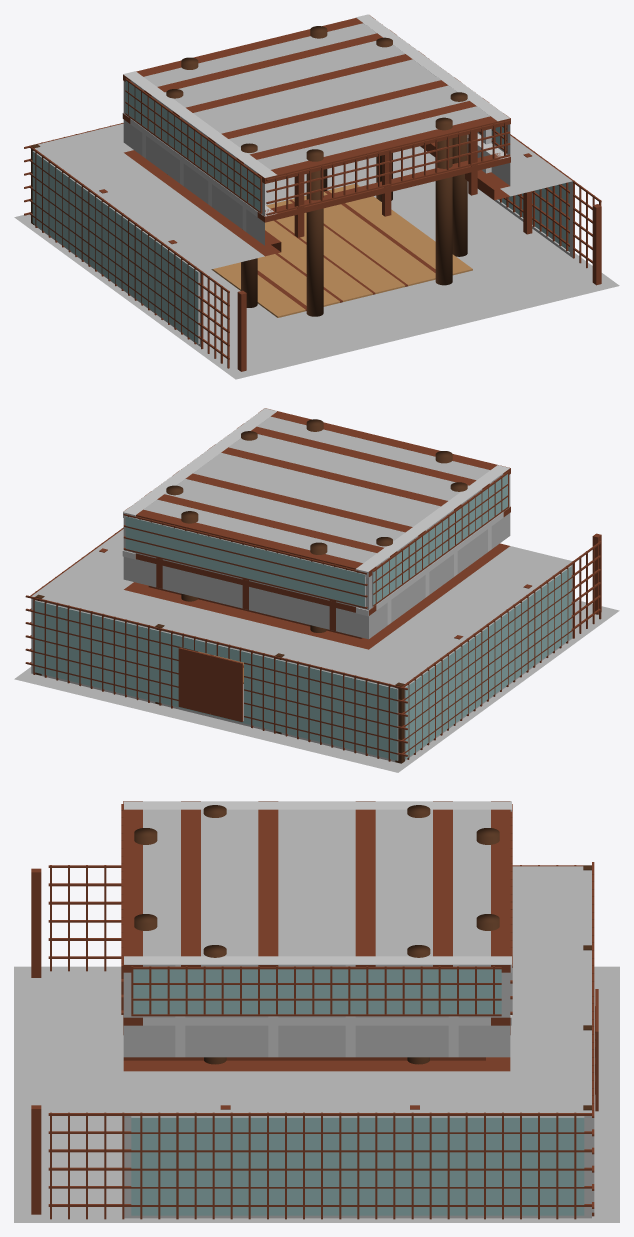
File: dojo.fbx
3 renders of one model, top to bottom at view 1: azimuth 30°, elevation 25°; view 2: azimuth 150°, elevation 25°; view 3: azimuth 270°, elevation 25°, orthographic. The views are drawn at different scales.
Parts seen in each view (by area): view 1: Cube, Plane.002, Cube.020, Cube.003, Cube.002, Cube.013, Cube.012, Cube.005, Cube.004, Cube.018, Cube.006, Cube.011 (+6 smaller); view 2: Cube, Cube.003, Plane.002, Cube.014, Cube.015, Cube.013, Cube.005, Cube.012, Cube.018, Cube.021, Cube.001, Cube.006 (+8 smaller); view 3: Cube, Plane.002, Cube.003, Cube.012, Cube.013, Cube.005, Cube.017, Cube.010, Cube.016, Cube.011, Cube.008, Cube.002 (+3 smaller).
Part boxes in pixels (bbox=[...]): Cube: bbox=[32, 23, 572, 346]; Plane.002: bbox=[14, 146, 619, 379]; Cube.020: bbox=[211, 184, 472, 317]; Cube.003: bbox=[123, 15, 510, 183]; Cube.002: bbox=[181, 26, 452, 316]; Cube.013: bbox=[35, 137, 601, 368]; Cube.012: bbox=[29, 134, 601, 359]; Cube.005: bbox=[123, 14, 509, 177]; Cube.004: bbox=[166, 37, 467, 307]; Cube.018: bbox=[266, 120, 510, 215]; Cube.006: bbox=[123, 113, 510, 222]; Cube.011: bbox=[99, 153, 601, 371]; Cube: bbox=[31, 416, 572, 762]; Cube.003: bbox=[123, 408, 510, 576]; Plane.002: bbox=[14, 600, 619, 772]; Cube.014: bbox=[33, 597, 390, 761]; Cube.015: bbox=[25, 595, 407, 756]; Cube.013: bbox=[35, 528, 601, 759]; Cube.005: bbox=[123, 408, 509, 577]; Cube.012: bbox=[29, 527, 601, 753]; Cube.018: bbox=[123, 514, 367, 608]; Cube.021: bbox=[210, 655, 243, 721]; Cube.001: bbox=[178, 647, 211, 714]; Cube.006: bbox=[135, 506, 510, 615]; Cube: bbox=[123, 809, 594, 1218]; Plane.002: bbox=[14, 966, 619, 1222]; Cube.003: bbox=[123, 801, 510, 972]; Cube.012: bbox=[48, 865, 593, 1206]; Cube.013: bbox=[50, 865, 576, 1219]; Cube.005: bbox=[124, 801, 511, 972]; Cube.017: bbox=[131, 966, 501, 1016]; Cube.010: bbox=[143, 1015, 511, 1025]; Cube.016: bbox=[131, 966, 494, 1015]; Cube.011: bbox=[31, 868, 419, 1214]; Cube.008: bbox=[175, 965, 458, 1057]; Cube.002: bbox=[134, 828, 499, 930].
Size of the model in its own units: 15.66 by 7.48 by 15.66.
